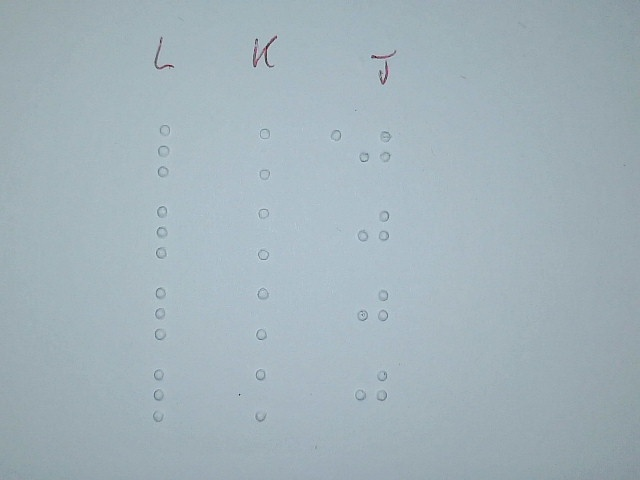J: (357, 121, 394, 182), (355, 201, 392, 262), (355, 281, 392, 342), (353, 361, 390, 422)
K: (249, 122, 296, 183), (248, 202, 295, 263), (247, 282, 294, 343), (245, 364, 292, 425)
L: (143, 364, 190, 425), (145, 283, 192, 344), (147, 201, 194, 262), (148, 121, 195, 182)
